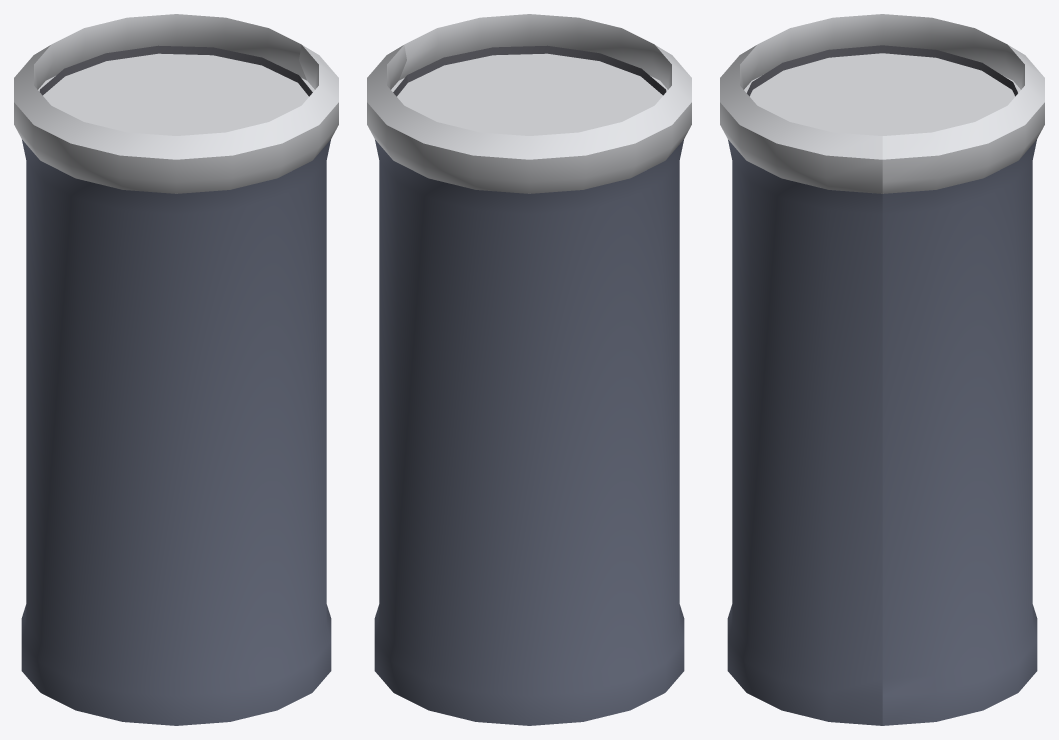
The model's file is bowling-alley-and-pool-hall-litter-bin-dbd9bb67__33879.glb.
3 views of the same model, side by side, from view 1: azimuth 30°, elevation 25°; view 2: azimuth 150°, elevation 25°; view 3: azimuth 270°, elevation 25° (orthographic).
Visible parts, largest first — view 1: litter-bin; view 2: litter-bin; view 3: litter-bin.
Boxes of the visible parts, x1,y1,x2,y2 form: litter-bin: (14, 14, 338, 725); litter-bin: (367, 14, 691, 725); litter-bin: (720, 14, 1044, 725).
Size of the model in its own units: 0.399 by 0.78 by 0.393.
